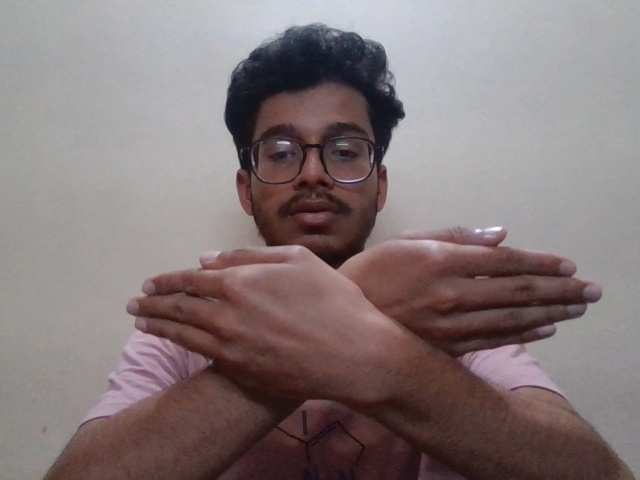feel: (101, 225, 625, 438)
